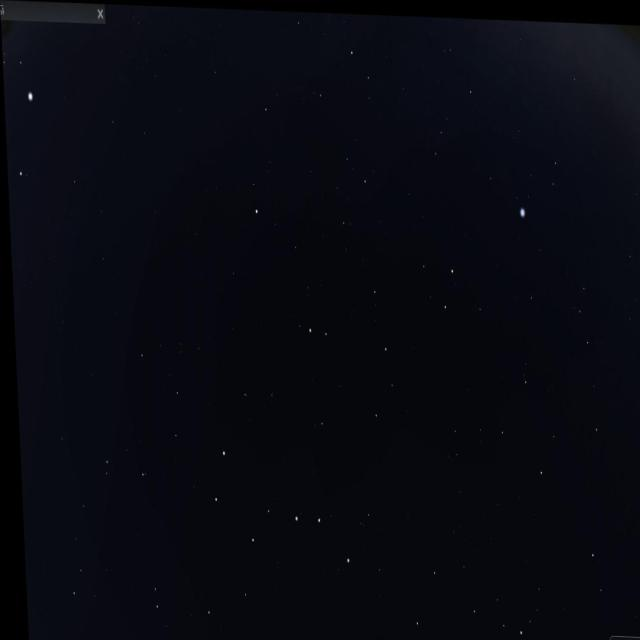lyra: (516, 141, 564, 213)
ursa_major: (201, 425, 350, 575)
